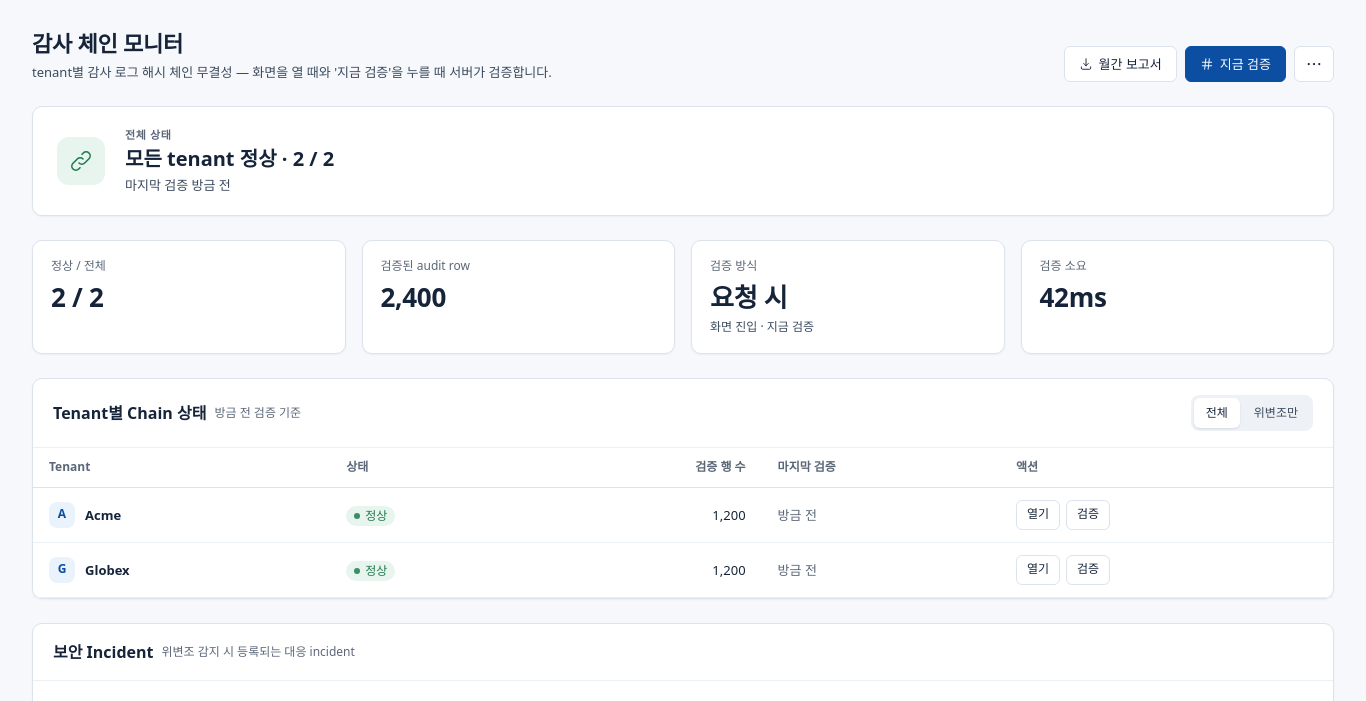
Scenario: AuditChainPage V2 › 백필 실패는 다이얼로그 안 인라인 오류, 다이얼로그는 열린 채
expect the text "Acme" is shown: met, box [85,505,121,525]
Click the button named "더 보기" at (1314, 64), box [1294,46,1334,82]
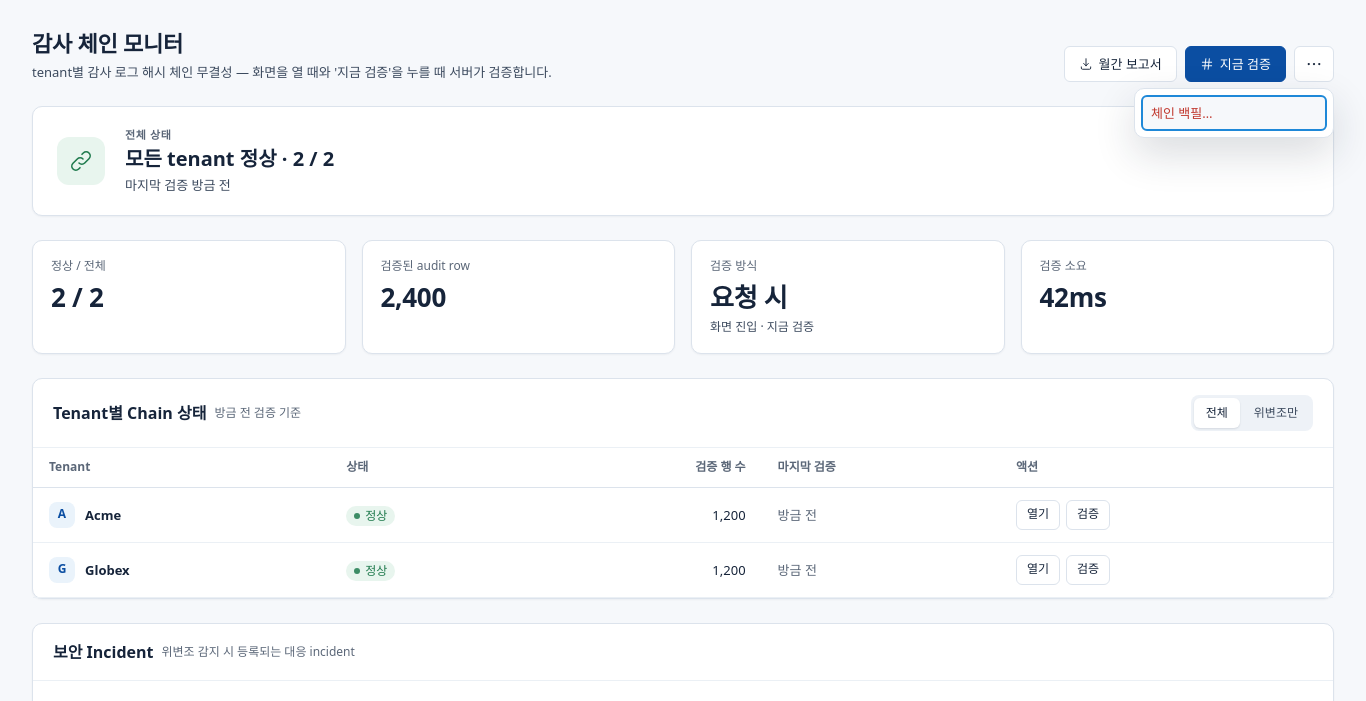
Click the menu item "체인 백필…" at (1234, 113), box [1141,95,1327,131]
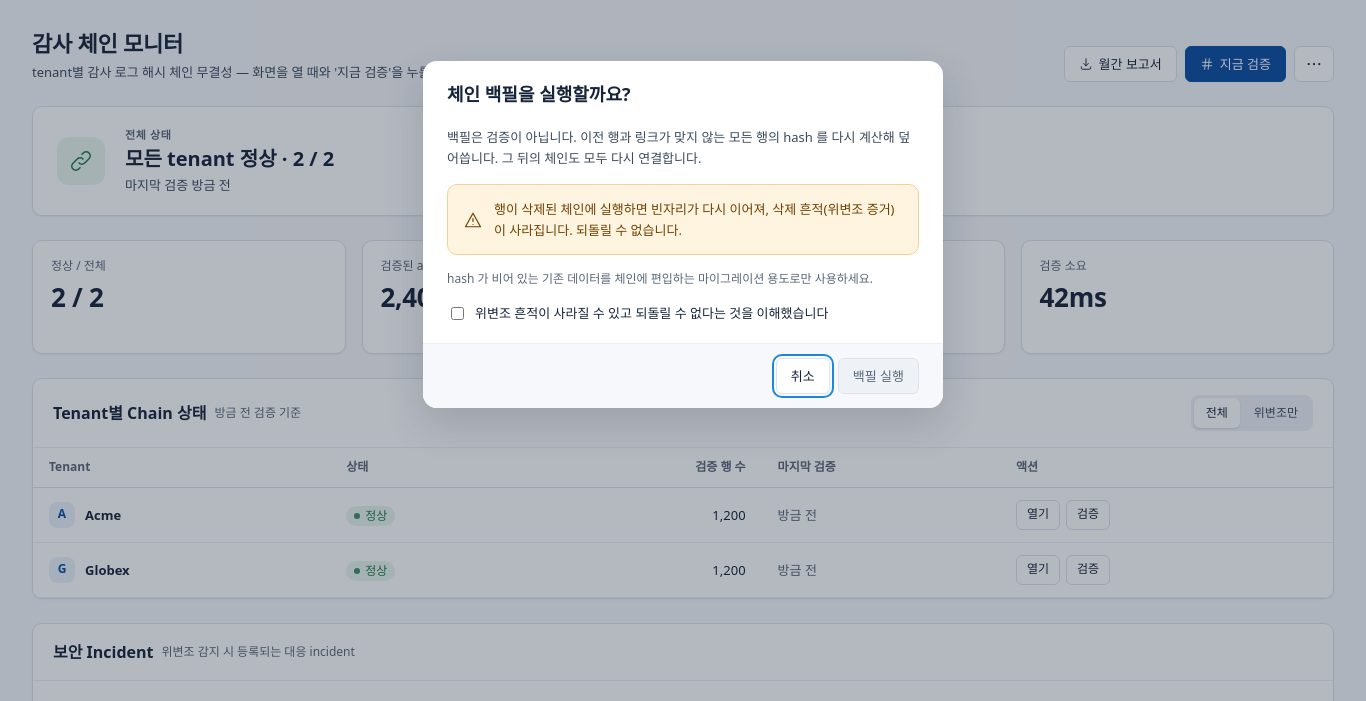
Click the checkbox labelled "위변조 흔적이 사라질 수 있고 되돌릴 수 없다는 것을 이해했습니다" at (458, 313), box [451,307,464,320]
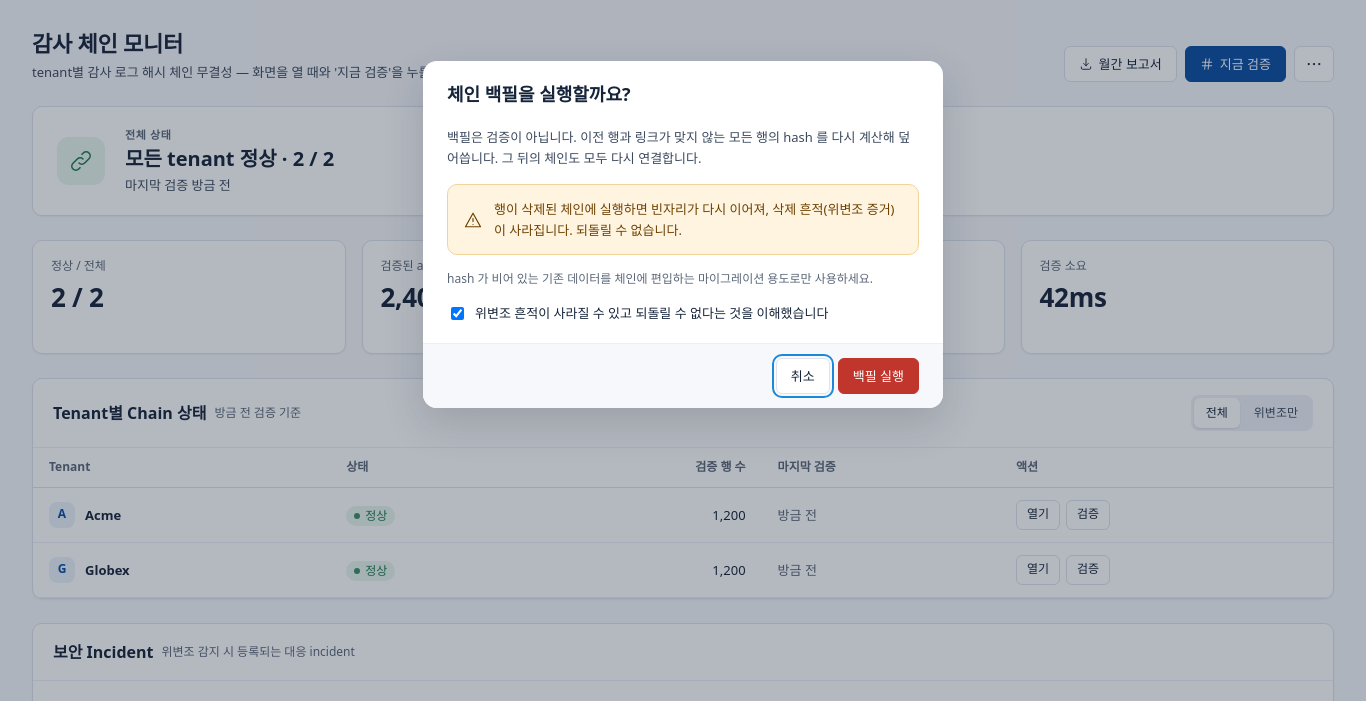
Click the button "백필 실행" at (878, 376), box [838,358,919,394]
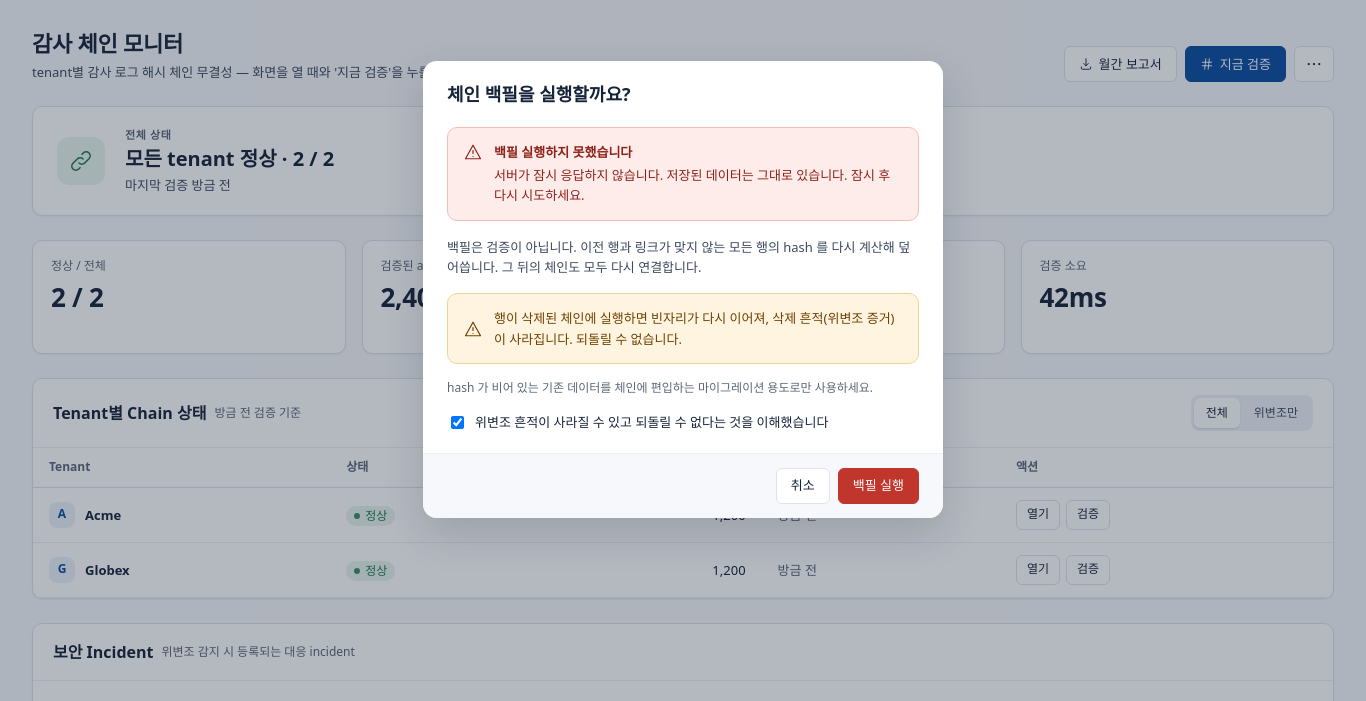
expect the dialog is shown: met, box [423,61,943,518]
expect the text "백필 실행하지 못했습니다" is shown: met, box [494,143,632,161]
